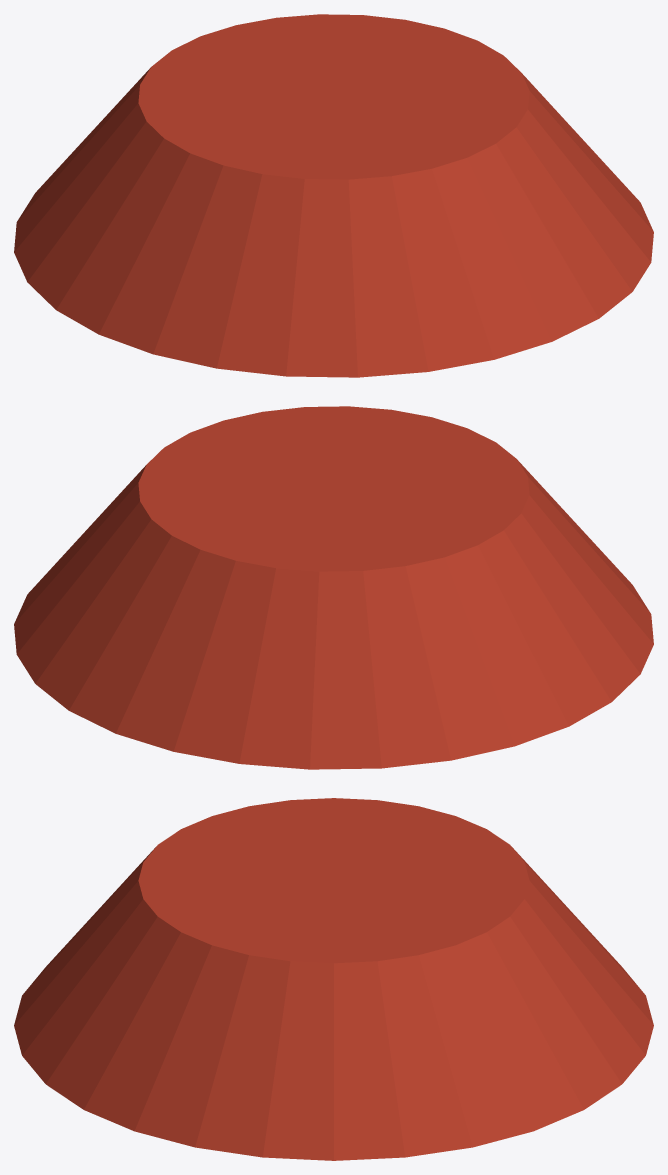
File: TowerRoof_RoofRed.fbx
The picture shows the model from 3 angles, top to bottom: view 1: azimuth 30°, elevation 25°; view 2: azimuth 150°, elevation 25°; view 3: azimuth 270°, elevation 25°; orthographic projection.
Parts seen in each view (by area): view 1: TowerRoof.001; view 2: TowerRoof.001; view 3: TowerRoof.001.
Boxes of the visible parts, bbox=[...] form: TowerRoof.001: bbox=[14, 14, 653, 377]; TowerRoof.001: bbox=[14, 406, 653, 769]; TowerRoof.001: bbox=[14, 798, 653, 1160].
Bounding box in the file's own units: 1800 × 450 × 1800.
